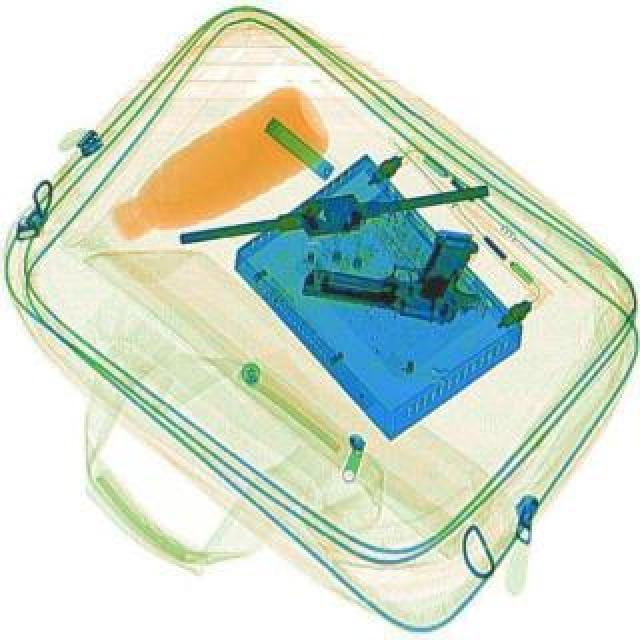gun: (296, 212, 490, 334)
